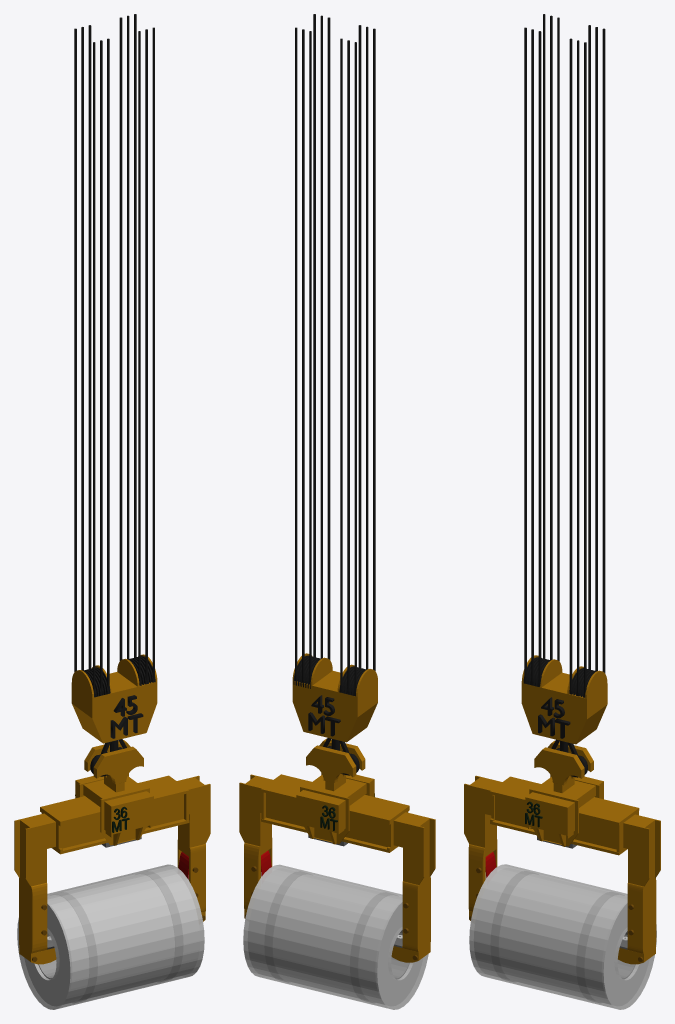
File: grabber.obj
3 renders of one model, left to right at view 1: azimuth 30°, elevation 25°; view 2: azimuth 150°, elevation 25°; view 3: azimuth 330°, elevation 25°, orthographic.
Parts seen in each view (by area): view 1: Cylinder.012_Cylinder.003, Cylinder.254_Cylinder.720, wire3.001_Cylinder.016, wire3.003_Cylinder.034, pinza1_Cube.013, pulleys_Cube.045, pinza_centro_Cube.019, parte_superior_gancho_Cube.028, pinza1.001_Cube.013, Cube.051_Cube.046, Cylinder.252_Cylinder.718, Cylinder.253_Cylinder.719 (+1 smaller); view 2: Cylinder.012_Cylinder.003, Cylinder.254_Cylinder.720, wire3.001_Cylinder.016, wire3.003_Cylinder.034, pinza1_Cube.013, pinza_centro_Cube.019, pulleys_Cube.045, parte_superior_gancho_Cube.028, pinza1.001_Cube.013, Cube.051_Cube.046, Cylinder.252_Cylinder.718, Cylinder.253_Cylinder.719 (+2 smaller); view 3: Cylinder.012_Cylinder.003, Cylinder.254_Cylinder.720, wire3.003_Cylinder.034, wire3.001_Cylinder.016, pinza1.001_Cube.013, pulleys_Cube.045, pinza_centro_Cube.019, parte_superior_gancho_Cube.028, pinza1_Cube.013, Cube.051_Cube.046, Cylinder.253_Cylinder.719, Cylinder.252_Cylinder.718 (+1 smaller).
Boxes of the visible parts, <box> form: Cylinder.012_Cylinder.003: <box>17,864,204,1009</box>; Cylinder.254_Cylinder.720: <box>25,868,199,1005</box>; wire3.001_Cylinder.016: <box>74,25,109,697</box>; wire3.003_Cylinder.034: <box>119,14,154,685</box>; pinza1_Cube.013: <box>14,813,56,964</box>; pulleys_Cube.045: <box>71,654,157,743</box>; pinza_centro_Cube.019: <box>40,775,189,854</box>; parte_superior_gancho_Cube.028: <box>75,774,153,845</box>; pinza1.001_Cube.013: <box>177,775,210,921</box>; Cube.051_Cube.046: <box>84,740,143,784</box>; Cylinder.252_Cylinder.718: <box>136,871,182,981</box>; Cylinder.253_Cylinder.719: <box>50,892,97,1002</box>; Cylinder.012_Cylinder.003: <box>243,864,428,1009</box>; Cylinder.254_Cylinder.720: <box>248,868,422,1005</box>; wire3.001_Cylinder.016: <box>340,25,375,696</box>; wire3.003_Cylinder.034: <box>295,14,330,684</box>; pinza1_Cube.013: <box>391,812,435,962</box>; pinza_centro_Cube.019: <box>261,774,409,852</box>; pulleys_Cube.045: <box>292,653,377,742</box>; parte_superior_gancho_Cube.028: <box>296,773,374,844</box>; pinza1.001_Cube.013: <box>239,774,272,918</box>; Cube.051_Cube.046: <box>306,738,365,782</box>; Cylinder.252_Cylinder.718: <box>265,872,310,981</box>; Cylinder.253_Cylinder.719: <box>350,892,396,1002</box>; Cylinder.012_Cylinder.003: <box>469,864,656,1009</box>; Cylinder.254_Cylinder.720: <box>474,868,648,1005</box>; wire3.003_Cylinder.034: <box>569,25,605,697</box>; wire3.001_Cylinder.016: <box>524,14,559,686</box>; pinza1.001_Cube.013: <box>618,814,660,964</box>; pulleys_Cube.045: <box>521,655,607,744</box>; pinza_centro_Cube.019: <box>490,776,639,855</box>; parte_superior_gancho_Cube.028: <box>525,775,603,846</box>; pinza1_Cube.013: <box>464,775,502,920</box>; Cube.051_Cube.046: <box>534,740,593,785</box>; Cylinder.253_Cylinder.719: <box>491,871,538,981</box>; Cylinder.252_Cylinder.718: <box>576,892,621,1002</box>.
Size of the model in its own units: 1.29 by 6.43 by 0.6454.
